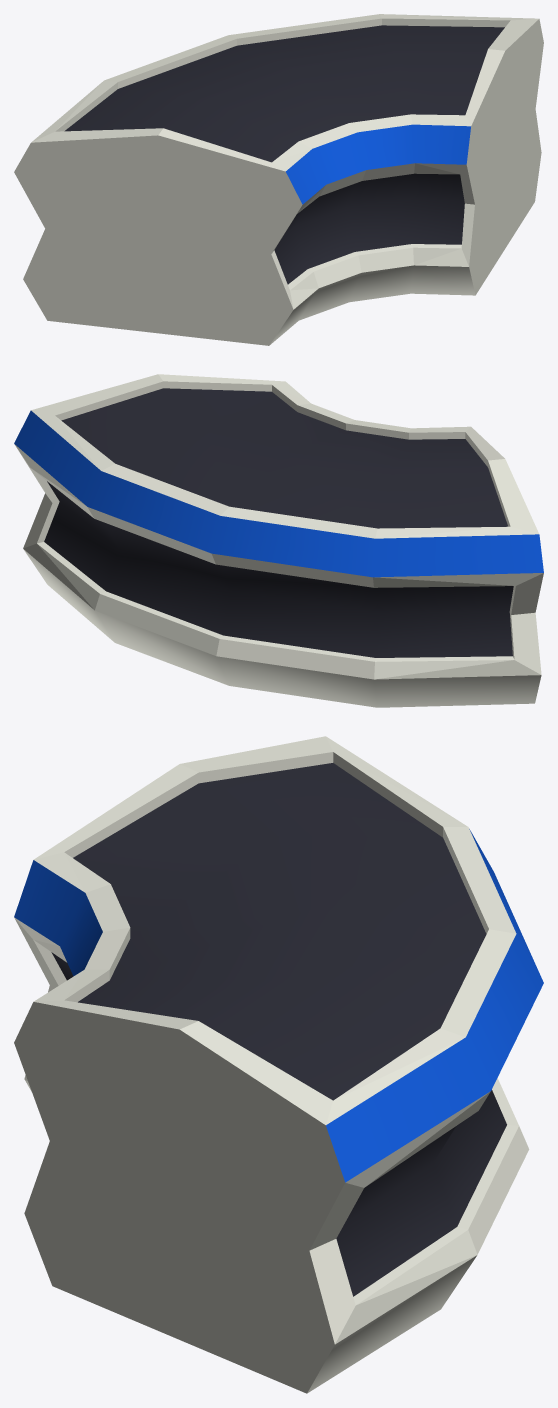
The model's file is StepTowerBridge2.FBX.
3 views of the same model, one above another, from view 1: azimuth 30°, elevation 25°; view 2: azimuth 150°, elevation 25°; view 3: azimuth 270°, elevation 25° (orthographic). The views are drawn at different scales.
Visible parts, largest first — view 1: StepTowerBridge2; view 2: StepTowerBridge2; view 3: StepTowerBridge2.
Part boxes in pixels (<box>): StepTowerBridge2: <box>14,14,543,345</box>; StepTowerBridge2: <box>14,374,543,707</box>; StepTowerBridge2: <box>14,736,543,1393</box>.
Size of the model in its own units: 44.92 by 16.03 by 24.81.
